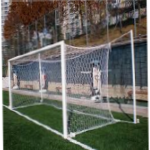goals: (6, 39, 119, 138)
